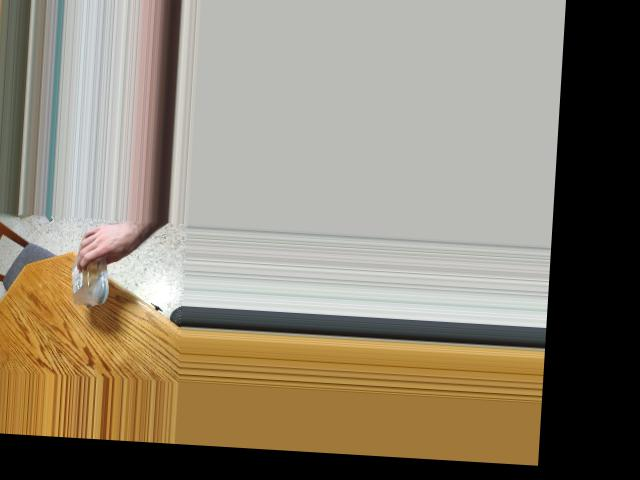cheese: (57, 249, 134, 308)
